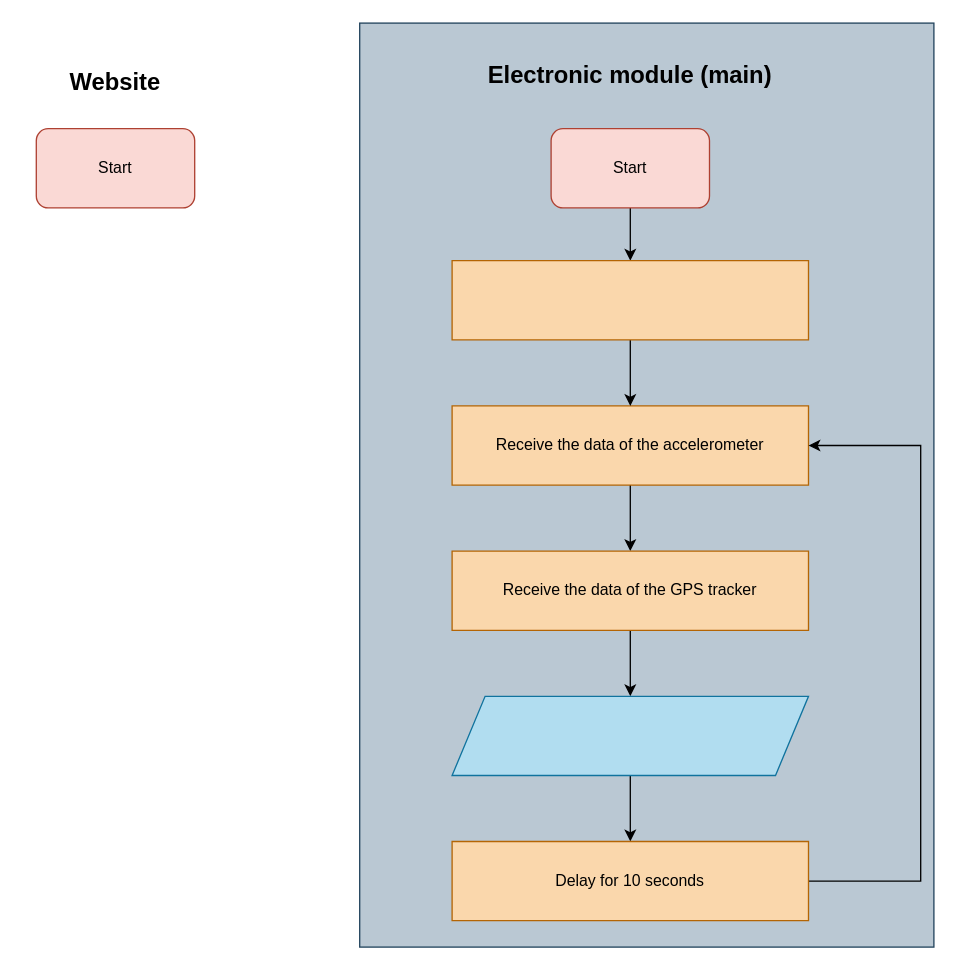
This 957x970 diagram has some shape labels left out. Here are the shapes that lost their labels. From the top down, the centre of each, then its label:
pixel 629 299: Set up input module essentials
pixel 629 735: Send the data to the server
